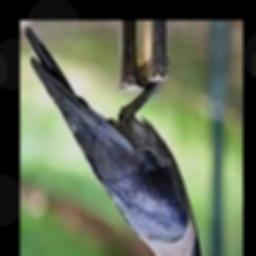Crow: (25, 26, 241, 256)
